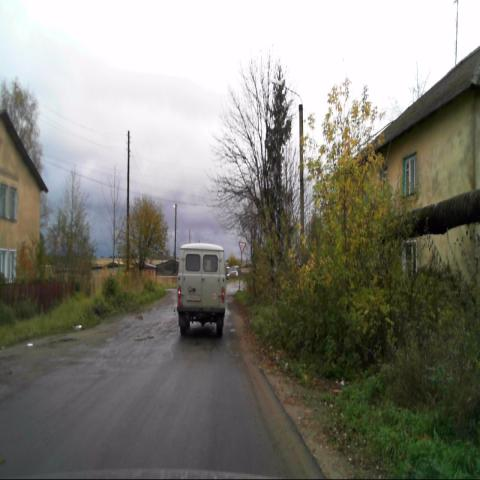2_4: (238, 240, 246, 253)
